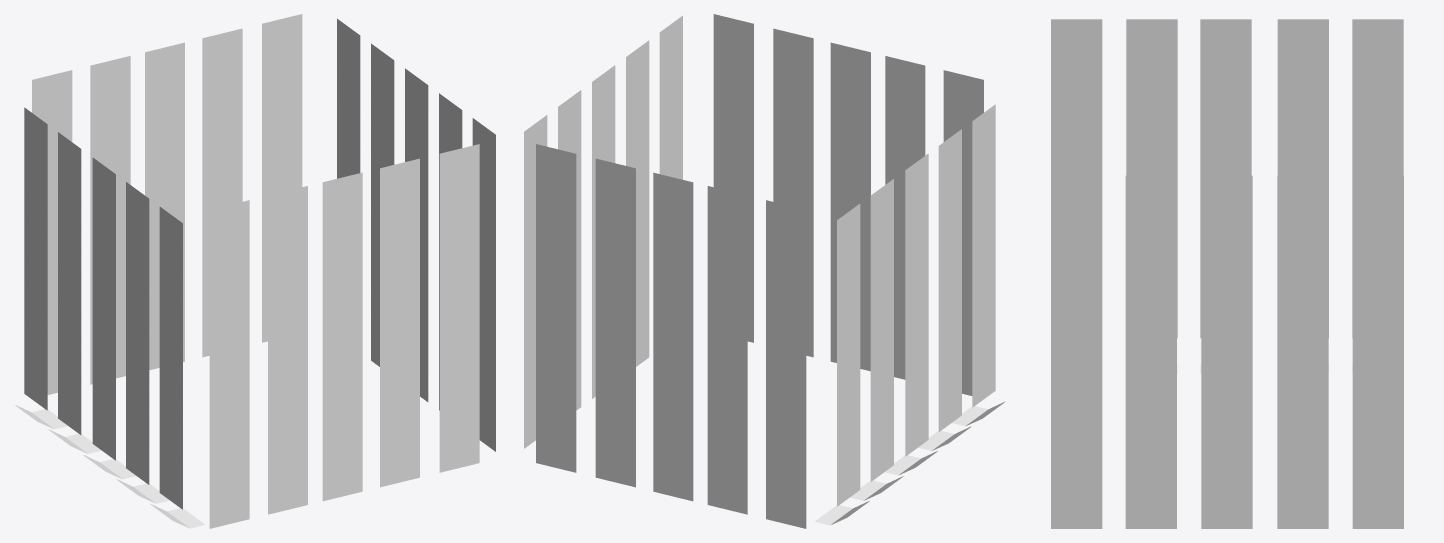
Rendered from Air_RKN.FBX.
The picture shows the model from 3 angles, left to right: view 1: azimuth 30°, elevation 25°; view 2: azimuth 150°, elevation 25°; view 3: azimuth 270°, elevation 25°; orthographic projection. The views are drawn at different scales.
Visible parts, largest first — view 1: Air_RKN; view 2: Air_RKN; view 3: Air_RKN.
Boxes of the visible parts, left/top/right/bottom form: Air_RKN: left=15, top=14, right=495, bottom=528; Air_RKN: left=524, top=14, right=1004, bottom=528; Air_RKN: left=1051, top=19, right=1403, bottom=528.
Size of the model in its own units: 1.37 by 1.3 by 1.31.
